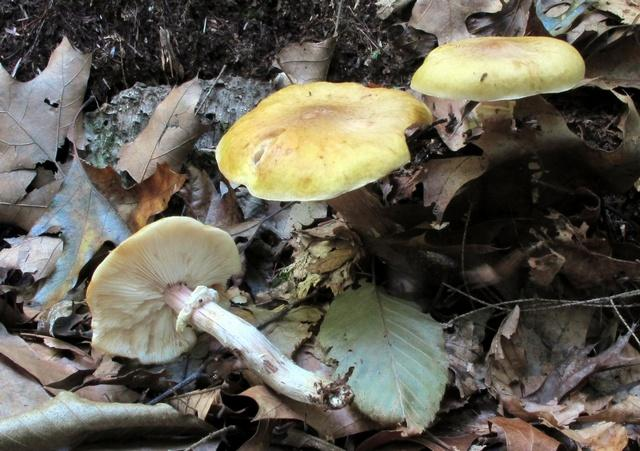Edible Mushroom: (214, 79, 433, 242), (85, 214, 242, 364), (417, 28, 591, 115)
